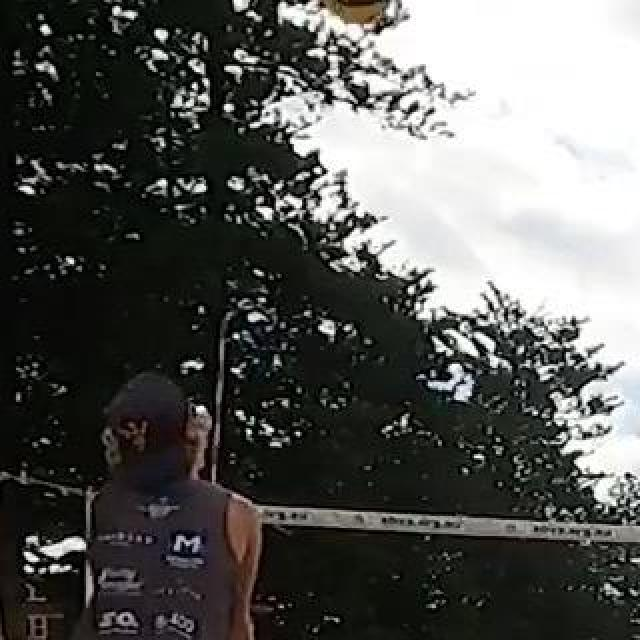volleyball: (322, 0, 392, 24)
